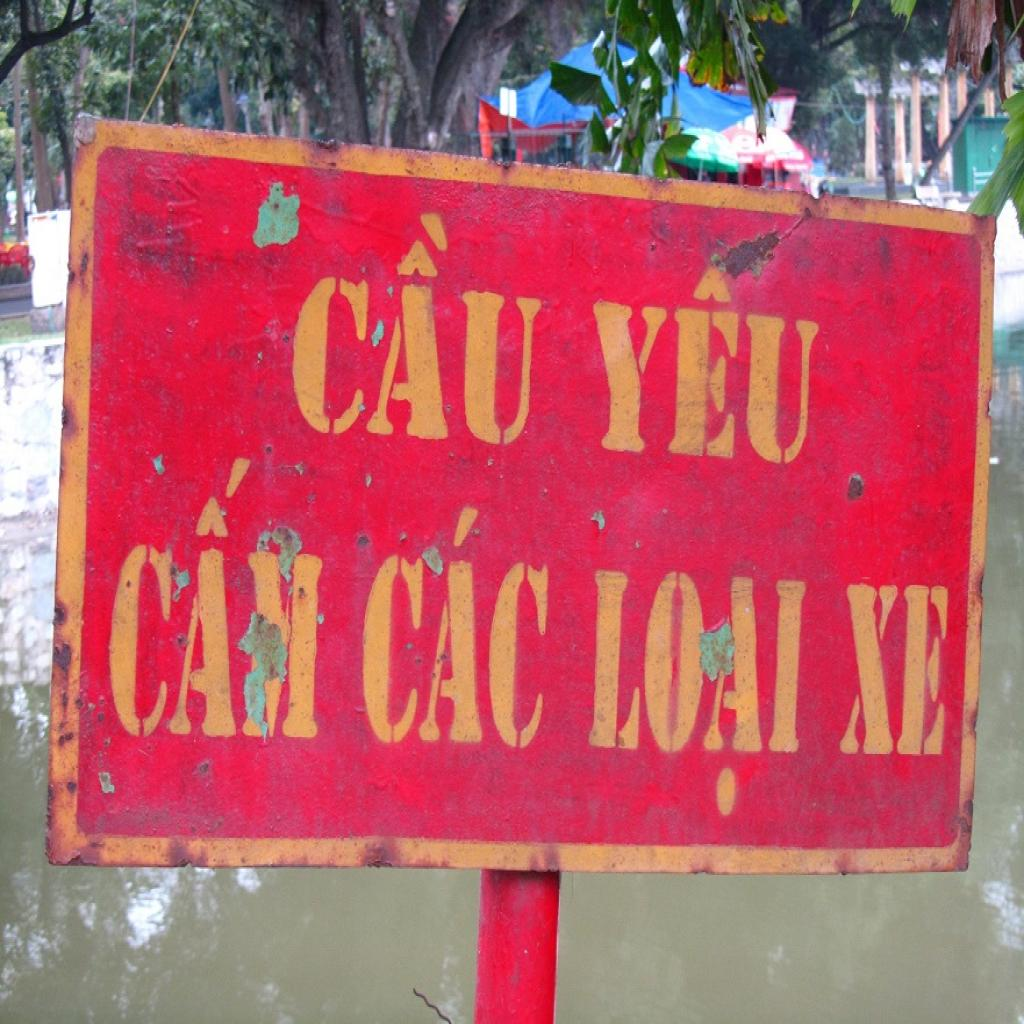text: (284, 199, 548, 450), (586, 564, 809, 818), (356, 496, 556, 752), (588, 254, 825, 467), (106, 452, 256, 740)
